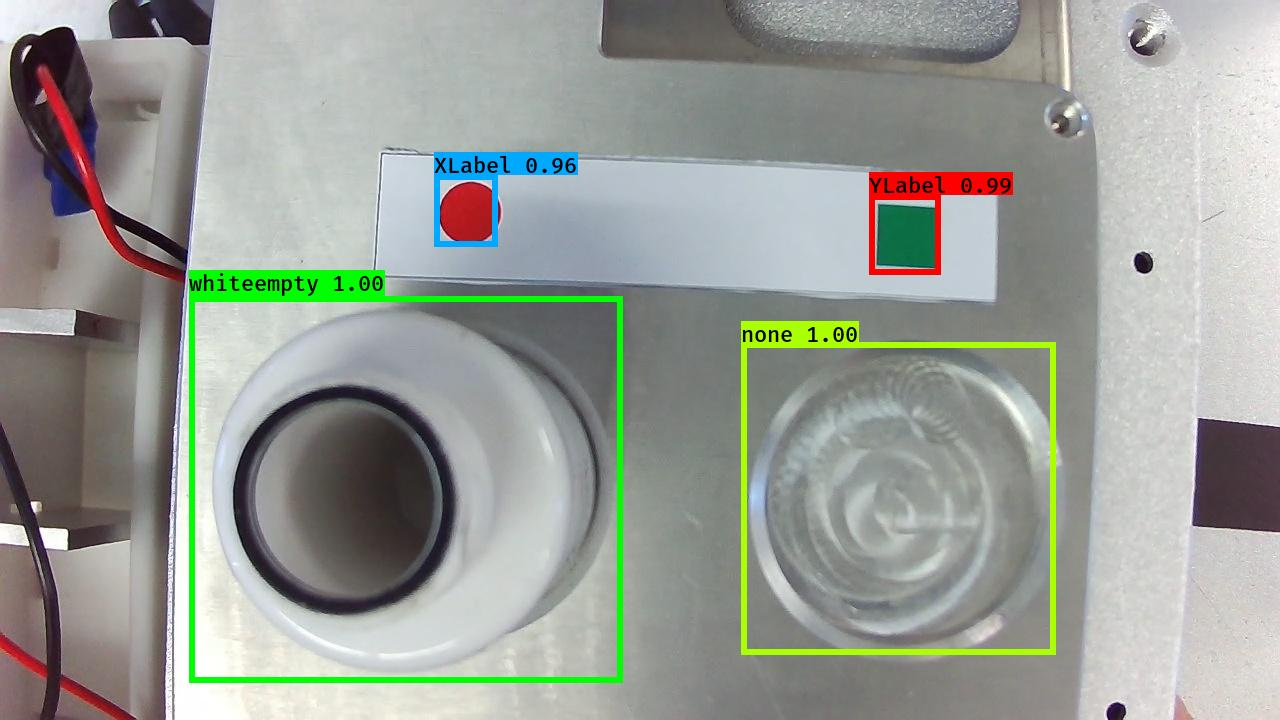XLabel: (435, 177, 505, 247)
YLabel: (870, 199, 941, 272)
none: (739, 332, 1073, 669)
whiteempty: (204, 305, 620, 682)
